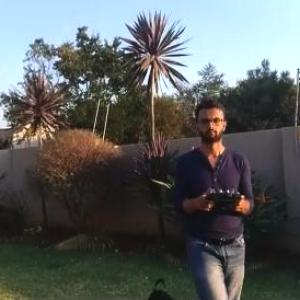follow: (174, 94, 265, 299)
null: (144, 275, 180, 299)
